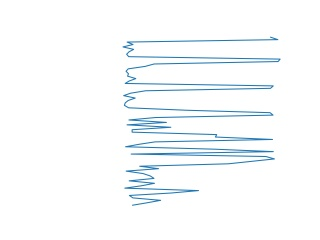crevasseRiverChannelBar: (119, 157, 276, 206)
majorRiverBedLagDeposit: (121, 120, 282, 162)
majorRiverChannelBar: (118, 35, 282, 118)
